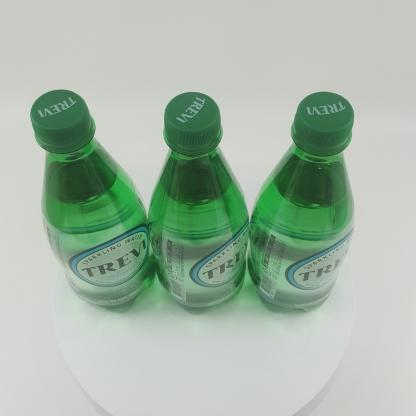---------PET-500ML: (30, 89, 158, 315), (247, 91, 355, 314), (148, 91, 249, 315)
